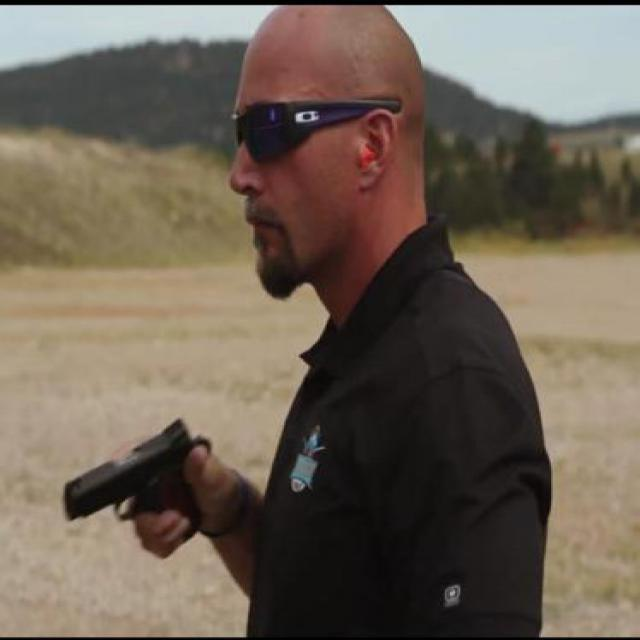weapon: (60, 418, 214, 560)
